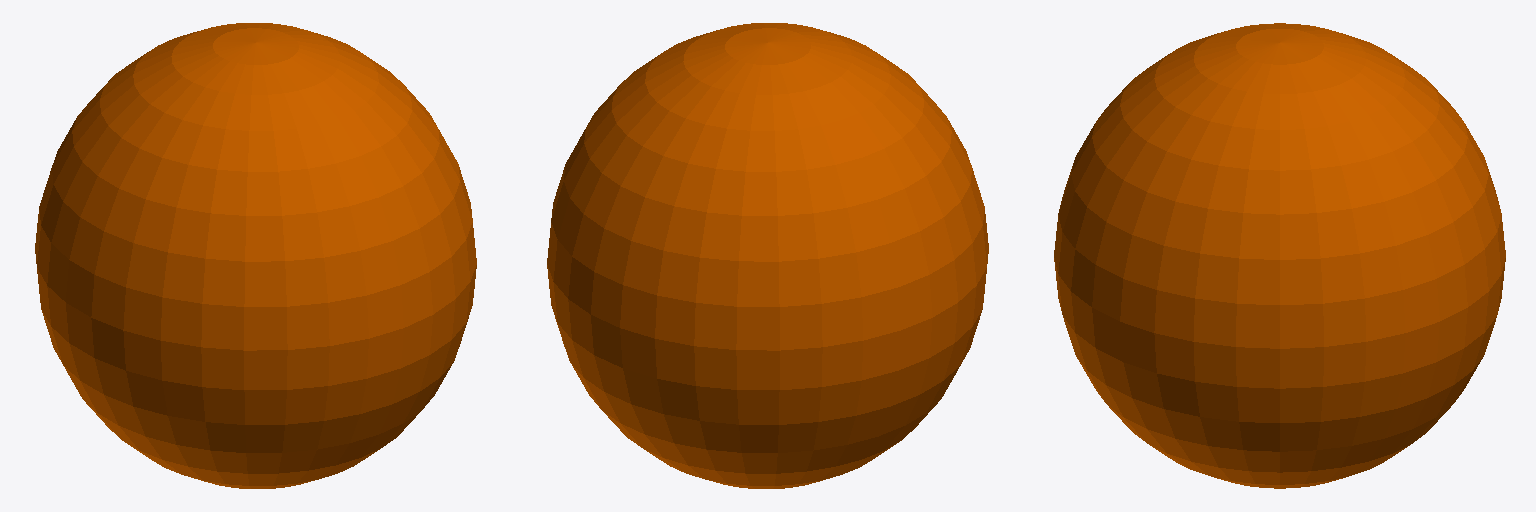
Rendered from moya_fan_o.obj.
3 views of the same model, side by side, from view 1: azimuth 30°, elevation 25°; view 2: azimuth 150°, elevation 25°; view 3: azimuth 270°, elevation 25° (orthographic).
Visible parts, largest first — view 1: Sphere_Sphere.000_Sphere_Sphere.004; view 2: Sphere_Sphere.000_Sphere_Sphere.004; view 3: Sphere_Sphere.000_Sphere_Sphere.004.
Part boxes in pixels (x1,y1,x2,y2): Sphere_Sphere.000_Sphere_Sphere.004: (35,23,476,488); Sphere_Sphere.000_Sphere_Sphere.004: (547,23,988,488); Sphere_Sphere.000_Sphere_Sphere.004: (1054,23,1505,488).
Size of the model in its own units: 0.4594 by 0.4922 by 0.4726.